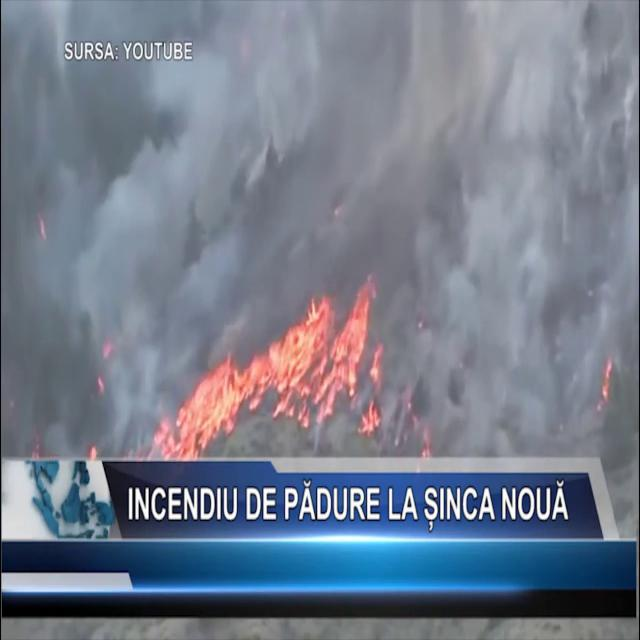Fire: (160, 292, 380, 458)
Smoke: (65, 0, 640, 392)
